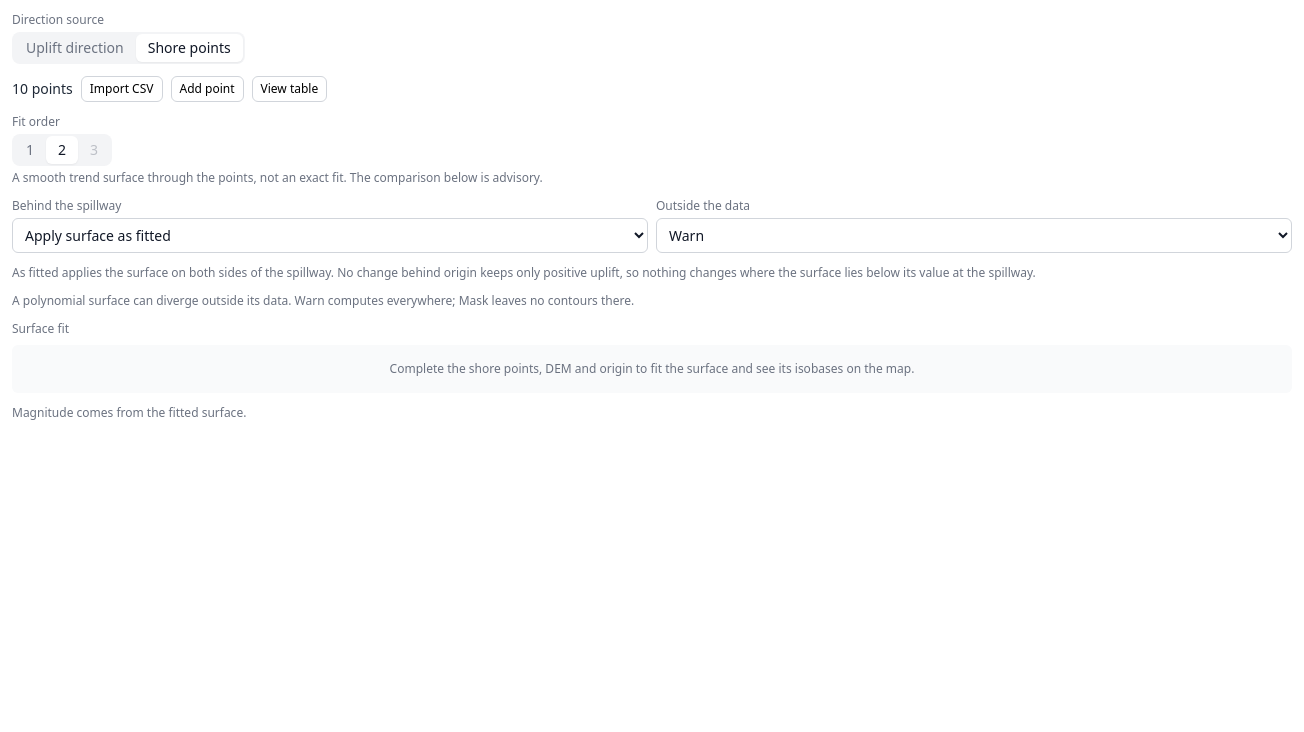
Test: the points table › rows are editable and deletable, so an obvious outlier can be removed
Click the button "View table" at (289, 89), box [252,76,327,102]
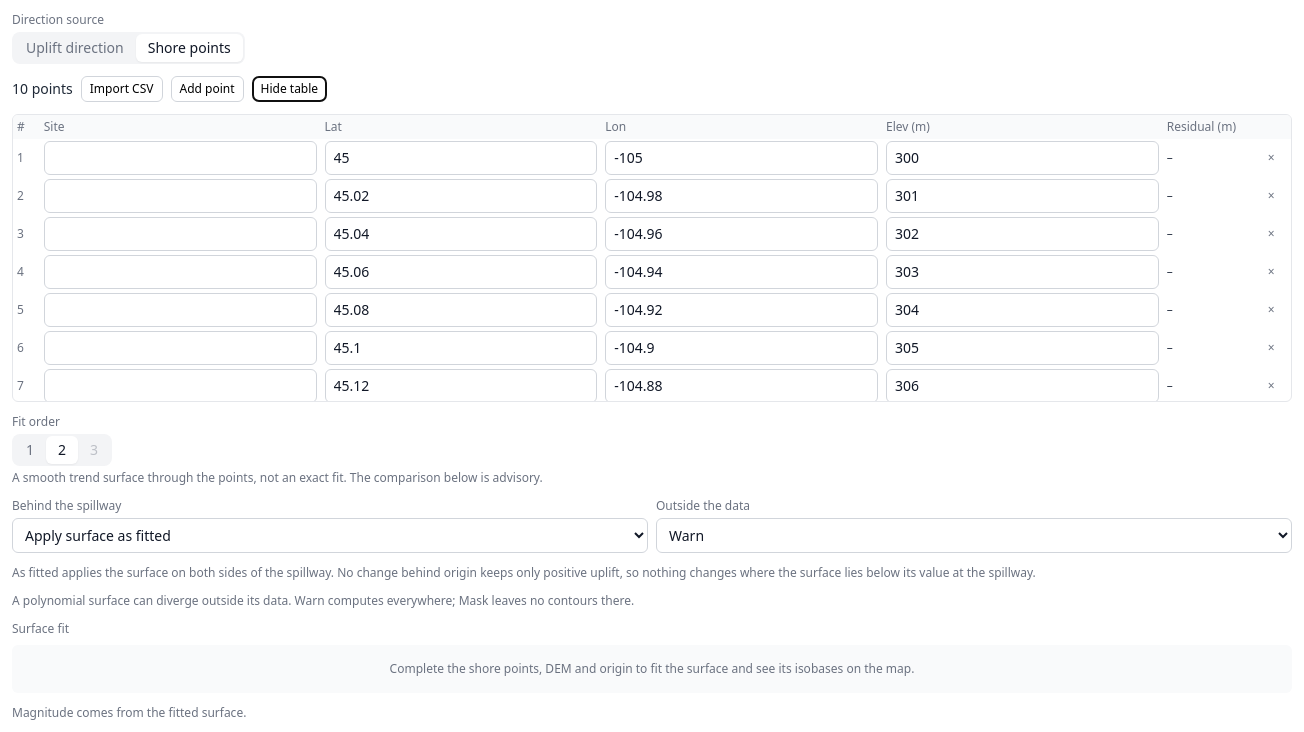
Replace the text in the field named "Point 3 elevation (m)" with "305.5" at (1022, 234), box [886,217,1159,251]
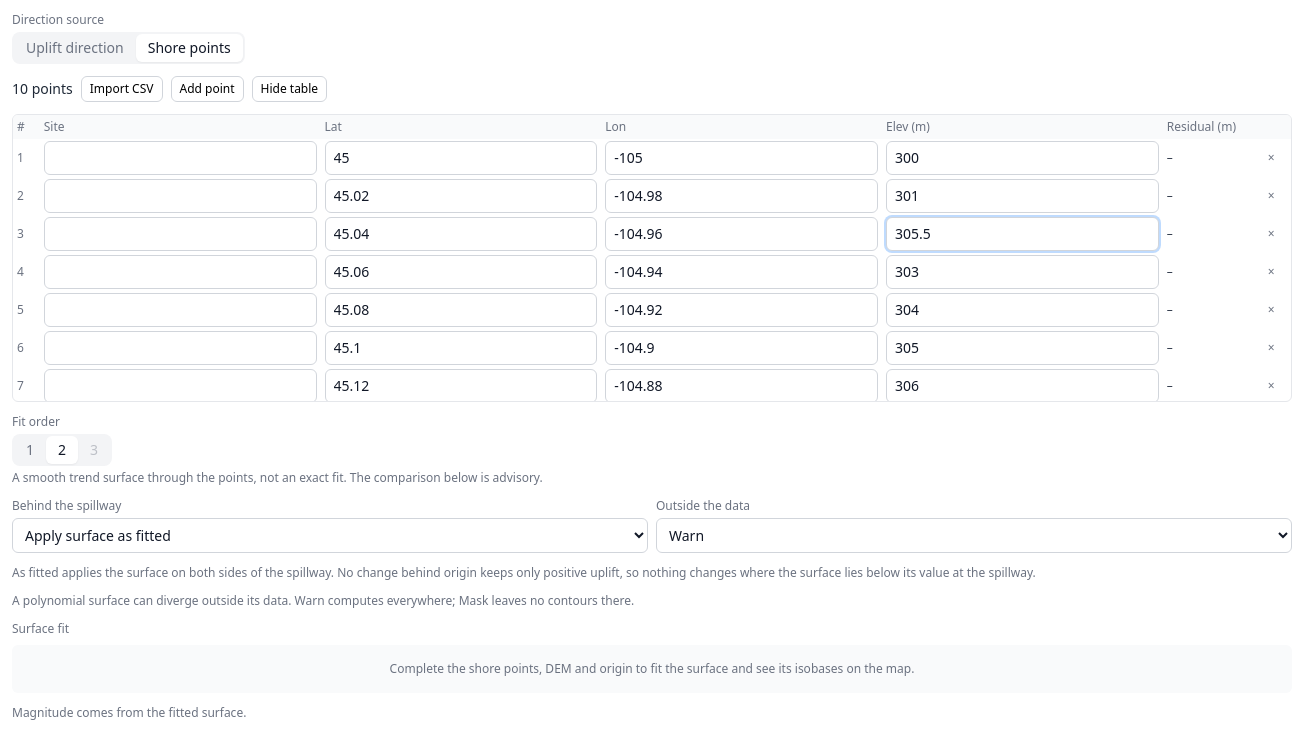
Click the button named "Remove point 4" at (1271, 272), box [1262,264,1281,280]
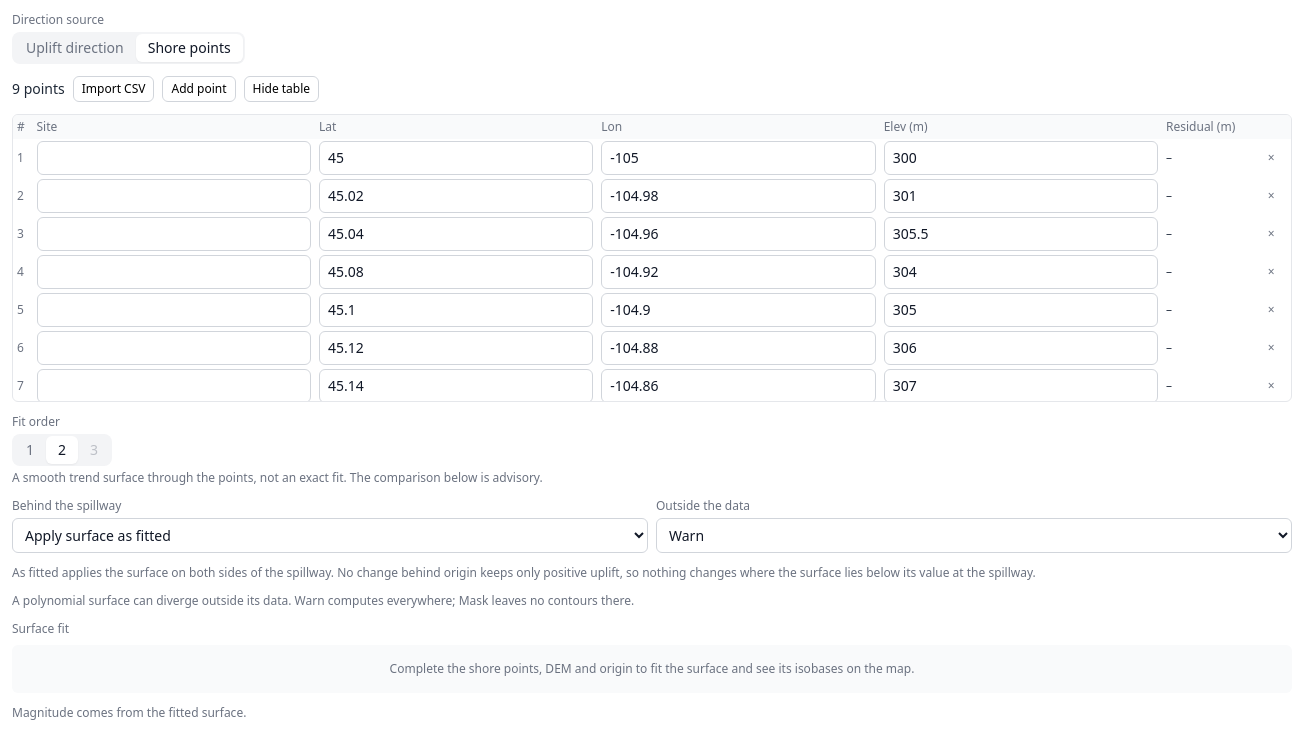
Check: the text "9 points" is shown, box [12,79,65,99]
